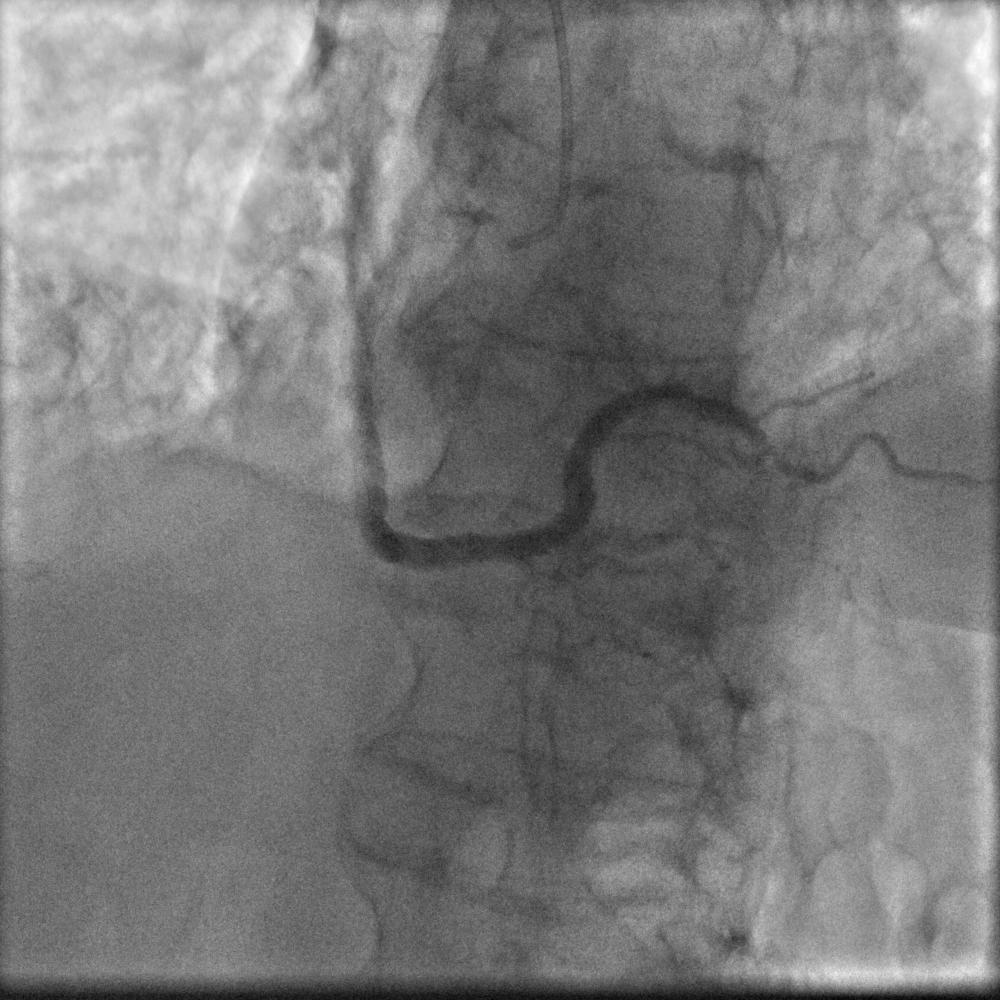Stenosis: (752, 407, 788, 482)
